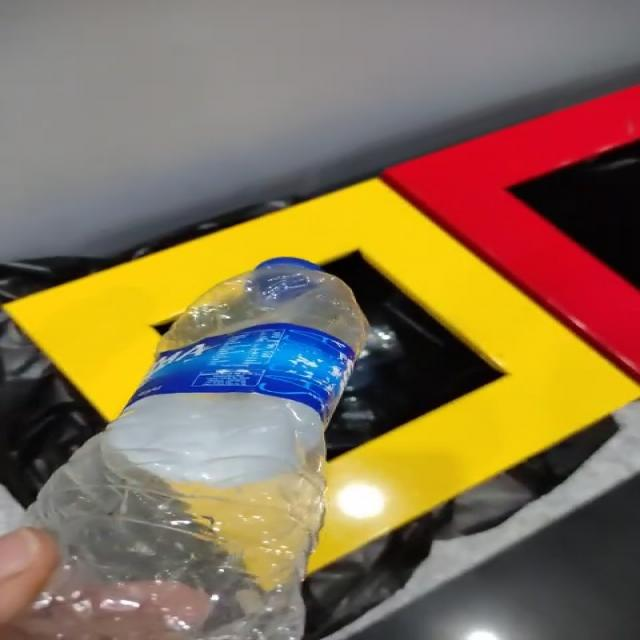plastic: (4, 258, 368, 640)
